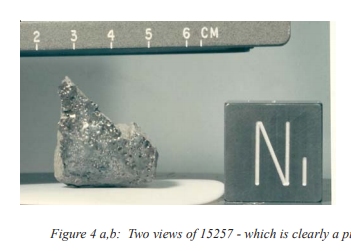Breccia: (46, 72, 168, 194)
